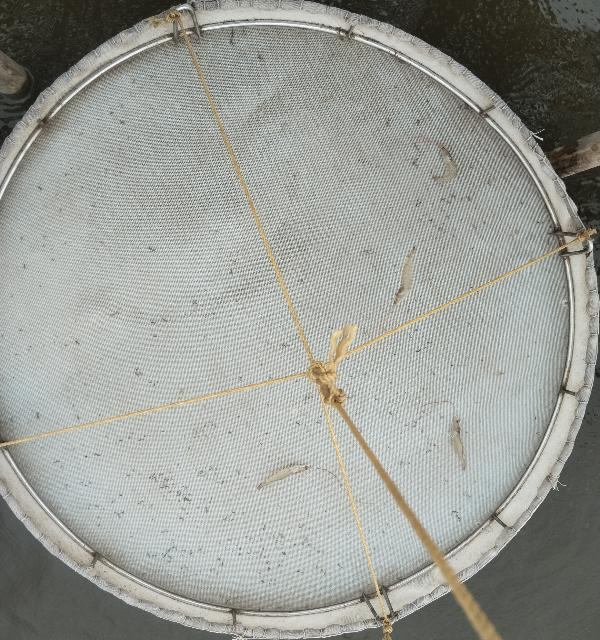shrimp: (392, 246, 415, 309), (257, 464, 311, 488), (435, 145, 458, 182), (452, 415, 466, 470)
